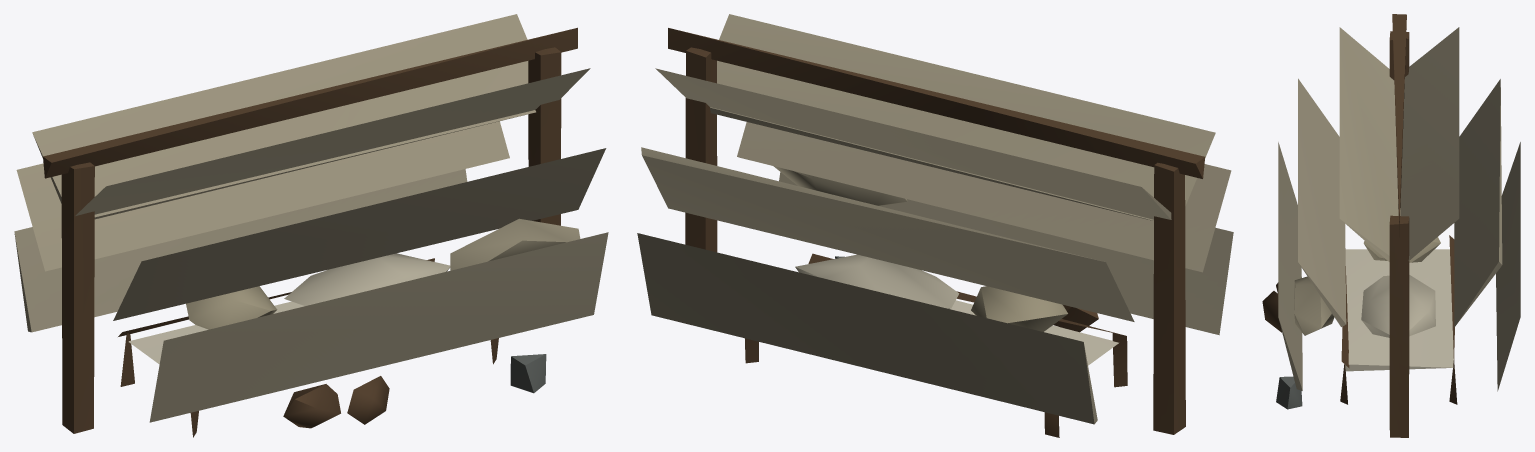
Rendered from bunk_cots_a_lod2.glb.
3 views of the same model, side by side, from view 1: azimuth 30°, elevation 25°; view 2: azimuth 150°, elevation 25°; view 3: azimuth 270°, elevation 25° (orthographic). The views are drawn at different scales.
Visible parts, largest first — view 1: Surface.001; view 2: Surface.001; view 3: Surface.001.
Boxes of the visible parts, x1,y1,x2,y2 form: Surface.001: [14, 14, 608, 437]; Surface.001: [637, 14, 1233, 437]; Surface.001: [1262, 14, 1520, 437].
Bounding box in the file's own units: 3.2 × 1.61 × 1.65.
